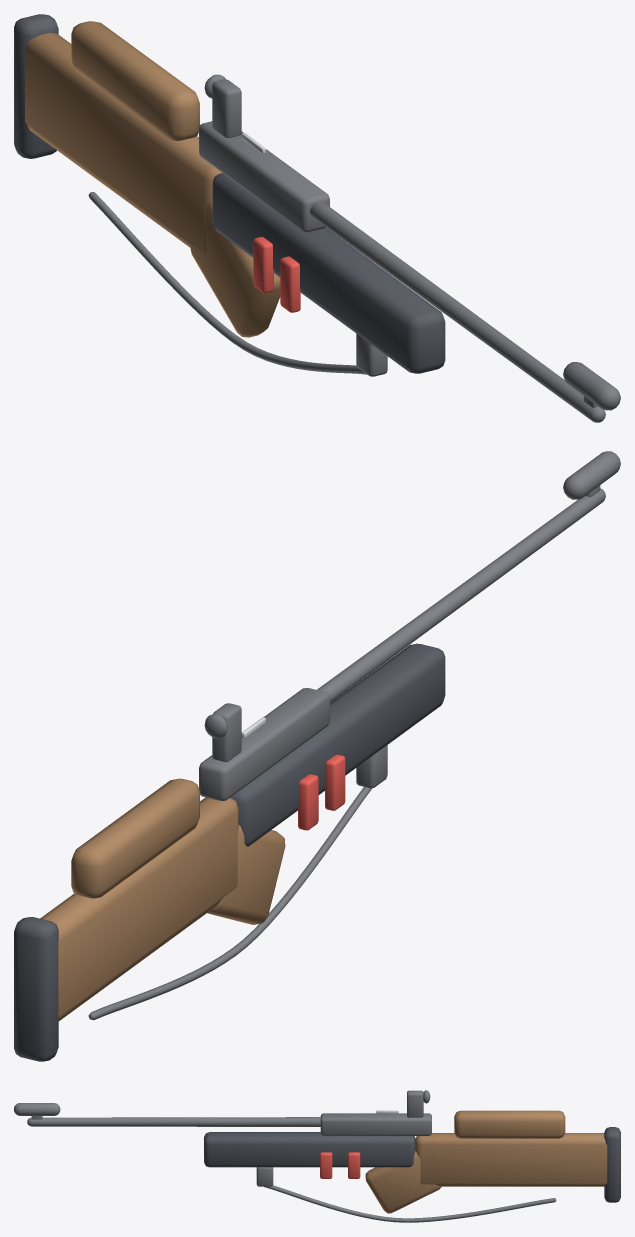
The model's file is rifle.glb.
3 views of the same model, one above another, from view 1: azimuth 30°, elevation 25°; view 2: azimuth 150°, elevation 25°; view 3: azimuth 270°, elevation 25° (orthographic). The views are drawn at different scales.
Visible parts, largest first — view 1: rifle; view 2: rifle; view 3: rifle.
Part boxes in pixels (x1,y1,x2,y2): rifle: (14, 14, 620, 422); rifle: (14, 451, 620, 1061); rifle: (14, 1090, 620, 1222).
Bounding box in the file's own units: 0.06 × 0.2609 × 1.09.
